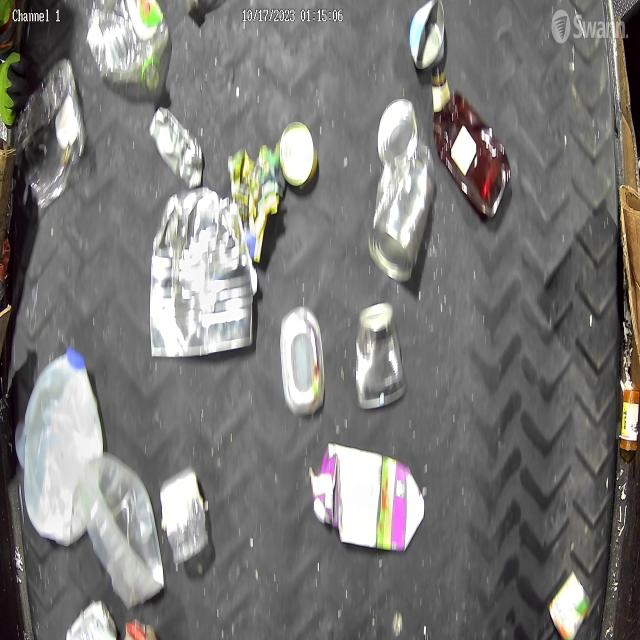can: (148, 188, 256, 360), (369, 140, 434, 289), (352, 302, 406, 412), (150, 106, 206, 190), (374, 92, 420, 168), (277, 118, 319, 194), (546, 568, 590, 638), (408, 0, 448, 77)
milk_jug: (20, 350, 102, 544), (84, 452, 165, 610)
plastic_bottle: (86, 1, 170, 88)
